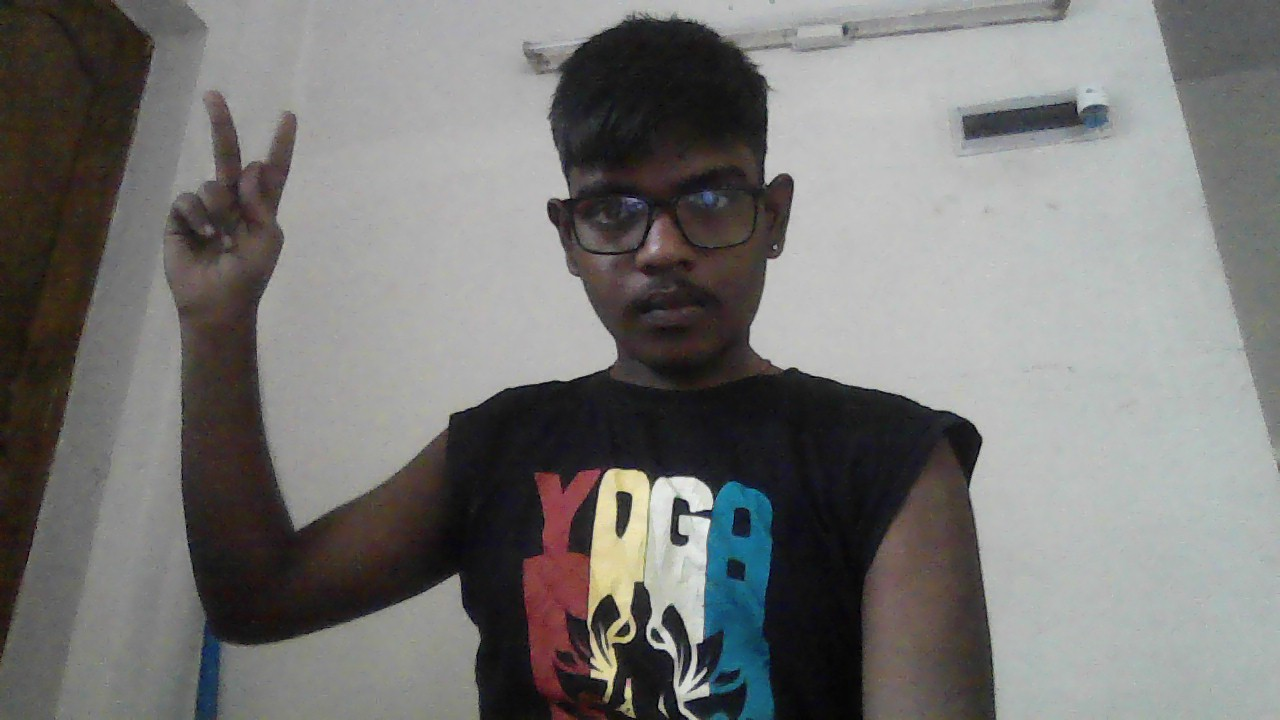K: (163, 88, 298, 326)
